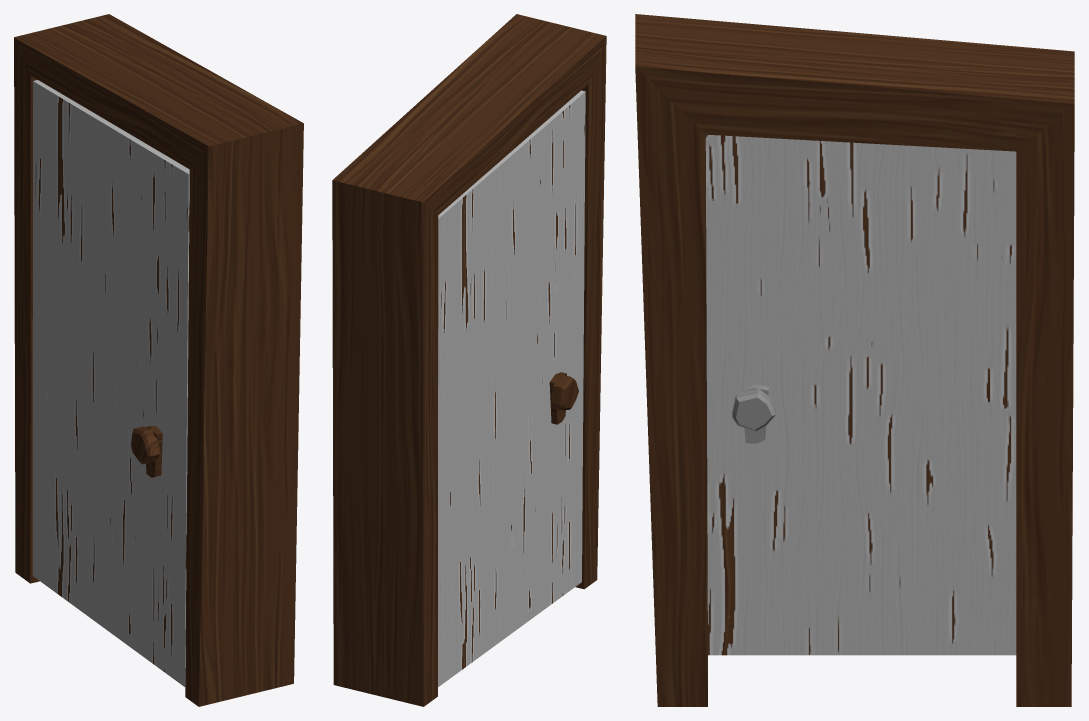
Rendered from DoorClosed.fbx.
3 views of the same model, side by side, from view 1: azimuth 30°, elevation 25°; view 2: azimuth 150°, elevation 25°; view 3: azimuth 270°, elevation 25° (orthographic). The views are drawn at different scales.
Parts seen in each view (by area): view 1: Closed Door; view 2: Closed Door; view 3: Closed Door.
Part boxes in pixels (box(x1,y1,x2,y2)): Closed Door: box(14, 14, 303, 706); Closed Door: box(332, 14, 606, 706); Closed Door: box(635, 14, 1074, 706).
Bounding box in the file's own units: 4665 × 22704 × 14118.
